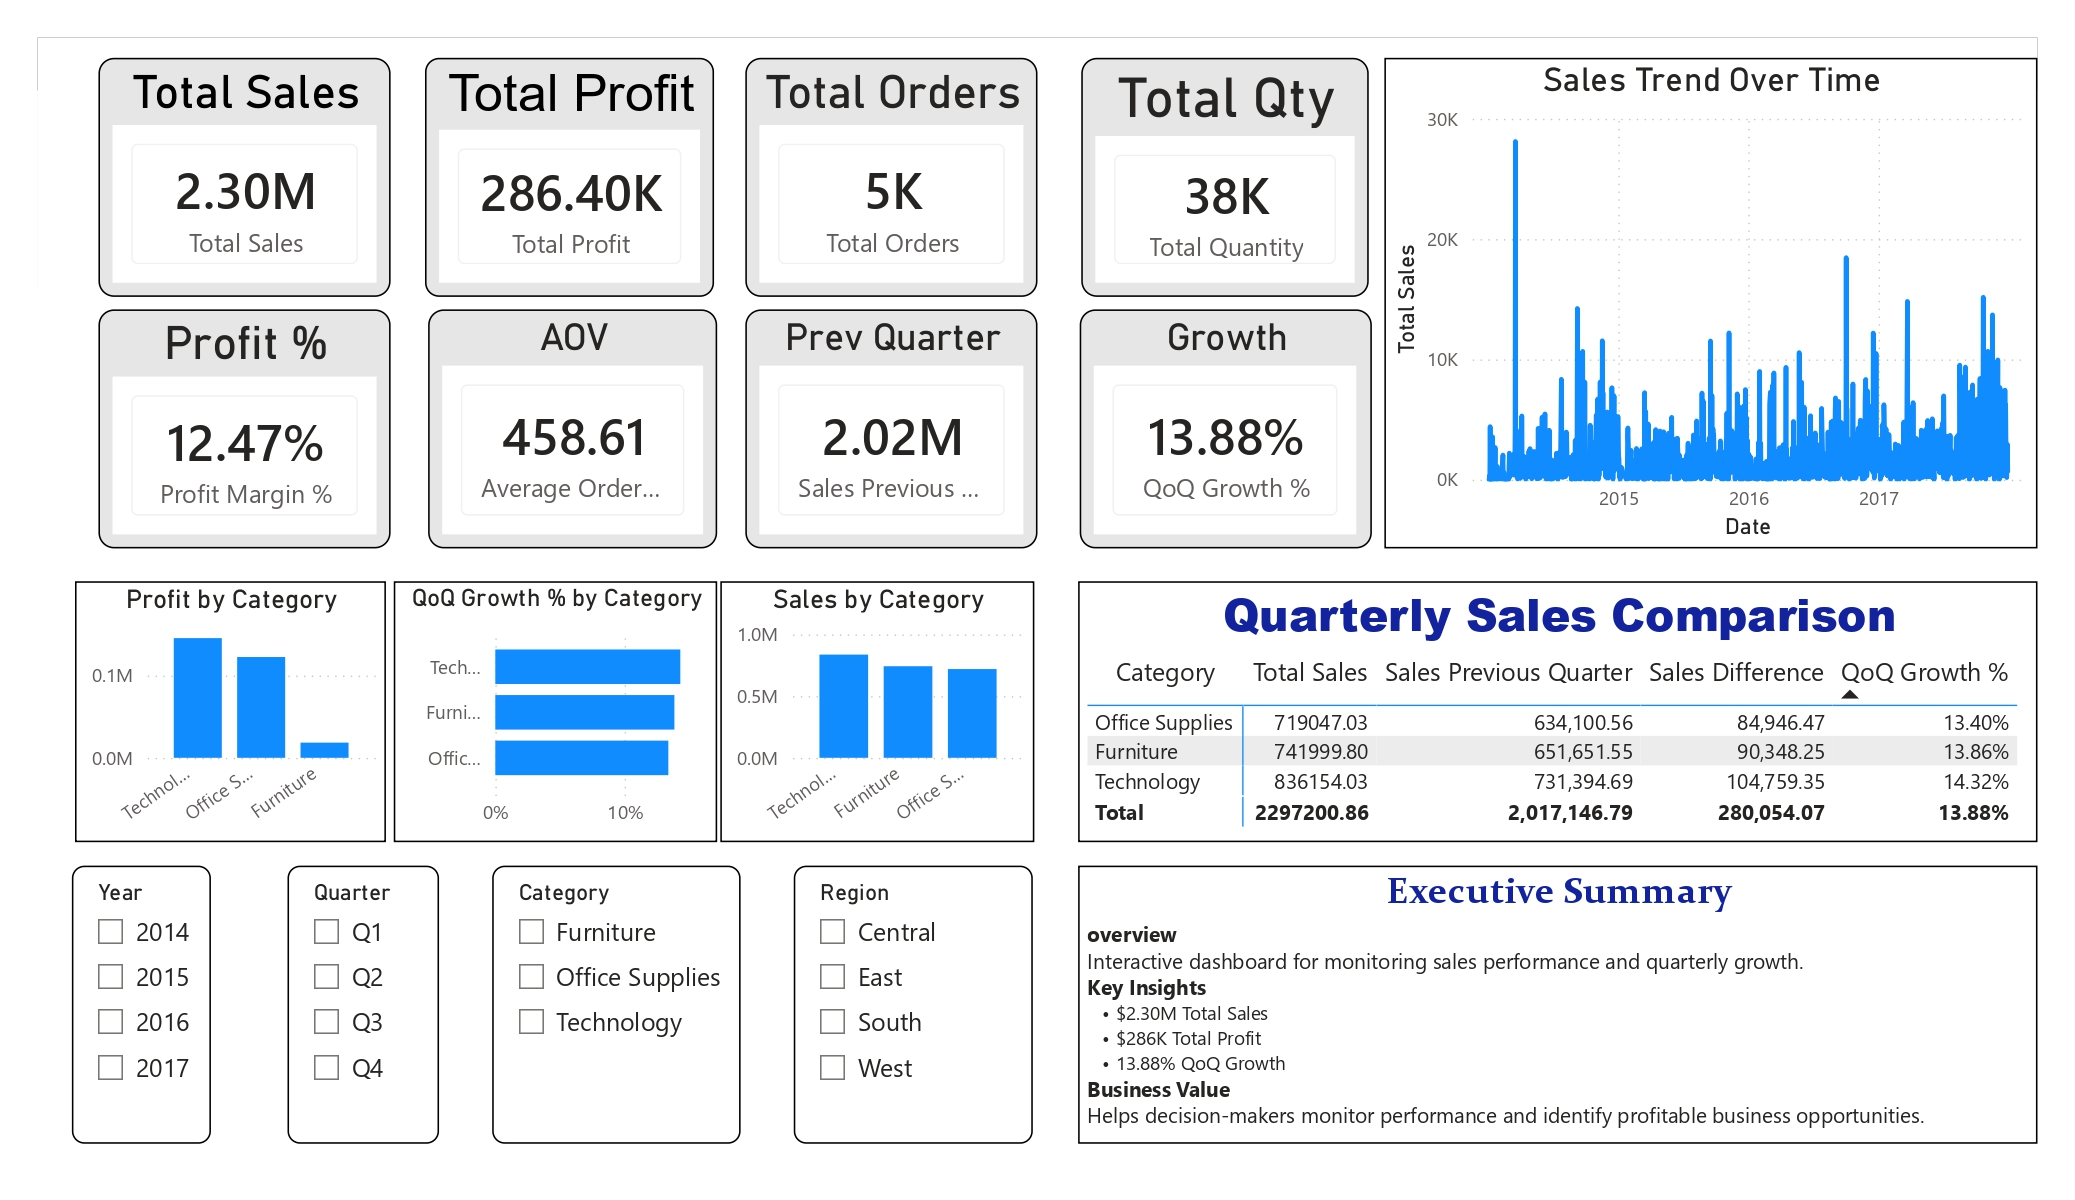

The page's visual inventory and layout, read from the dashboard file:
{"tool":"powerbi","page":{"name":"Executive Overview","canvas":[1280,720],"ordinal":0},"visuals":[{"type":"cardVisual","title":"Total Sales","fields":{"Data":["Measures (2).Total Sales"]},"box":[39,13,187,153],"z":0},{"type":"cardVisual","title":"Total Profit","fields":{"Data":["Measures (2).Total Profit"]},"box":[248,13,185,153],"z":1000},{"type":"cardVisual","title":"Total Orders","fields":{"Data":["Measures (2).Total Orders"]},"box":[453,13,187,153],"z":2000},{"type":"cardVisual","title":"Total Qty","fields":{"Data":["Measures (2).Total Quantity"]},"box":[668,13,184,153],"z":3000},{"type":"cardVisual","title":"AOV","fields":{"Data":["Measures (2).Average Order Value"]},"box":[250,174,185,153],"z":4000},{"type":"cardVisual","title":" Profit %","fields":{"Data":["Measures (2).Profit Margin %"]},"box":[39,174,187,153],"z":5000},{"type":"lineChart","title":"Sales Trend Over Time","fields":{"Category":["DimDate.Date.Variation.Date Hierarchy.Year"],"Y":["Measures (2).Total Sales"]},"box":[861.7,12.9,418.3,314],"z":6000},{"type":"clusteredColumnChart","title":"Sales by Category","fields":{"Category":["FactSales.Category"],"Y":["Measures (2).Total Sales"]},"box":[437.3,348.5,201,166.5],"z":7000},{"type":"clusteredColumnChart","title":"Profit by Category","fields":{"Category":["FactSales.Category"],"Y":["Measures (2).Total Profit"]},"box":[24.2,348.5,199.2,166.5],"z":8000},{"type":"cardVisual","title":"Prev Quarter","fields":{"Data":["Measures (2).Sales Previous Quarter"]},"box":[453,174,187,153],"z":9000},{"type":"cardVisual","title":"Growth","fields":{"Data":["Measures (2).QoQ Growth %"]},"box":[667.3,174,186.8,153.3],"z":10000},{"type":"clusteredBarChart","fields":{"Category":["DimProducts.Category"],"Y":["Measures (2).QoQ Growth %"]},"box":[227.7,348.5,207,166.5],"z":11000},{"type":"slicer","fields":{"Values":["DimDate.Year"]},"box":[22,530,89,178],"z":12000},{"type":"slicer","fields":{"Values":["DimDate.Quarter"]},"box":[160,530,97,178],"z":13000},{"type":"slicer","fields":{"Values":["DimProducts.Category"]},"box":[291,530,159,178],"z":14000},{"type":"slicer","fields":{"Values":["DimCustomers.Region"]},"box":[484,530,153,178],"z":15000},{"type":"pivotTable","title":"Quarterly Sales Comparison","fields":{"Rows":["DimProducts.Category"],"Values":["Measures (2).Total Sales","Measures (2).Sales Previous Quarter","Measures (2).Sales Difference","Measures (2).QoQ Growth %"]},"box":[665.9,348.5,614.1,166.5],"z":16000},{"type":"textbox","title":"Executive Summary","box":[666,530,614,178],"z":17000}]}

Visuals, with their boxes in screenshot pixels (x1, y1, x2, y2):
"Total Sales" cardVisual: <bbox>103, 63, 392, 299</bbox>
"Total Profit" cardVisual: <bbox>426, 63, 711, 299</bbox>
"Total Orders" cardVisual: <bbox>742, 63, 1030, 299</bbox>
"Total Qty" cardVisual: <bbox>1073, 63, 1357, 299</bbox>
"AOV" cardVisual: <bbox>429, 312, 714, 547</bbox>
" Profit %" cardVisual: <bbox>103, 312, 392, 547</bbox>
"Sales Trend Over Time" lineChart: <bbox>1372, 63, 2017, 547</bbox>
"Sales by Category" clusteredColumnChart: <bbox>718, 581, 1027, 837</bbox>
"Profit by Category" clusteredColumnChart: <bbox>81, 581, 388, 837</bbox>
"Prev Quarter" cardVisual: <bbox>742, 312, 1030, 547</bbox>
"Growth" cardVisual: <bbox>1072, 312, 1360, 548</bbox>
clusteredBarChart - DimProducts.Category x Measures (2).QoQ Growth %: <bbox>394, 581, 714, 837</bbox>
slicer - DimDate.Year: <bbox>77, 860, 214, 1135</bbox>
slicer - DimDate.Quarter: <bbox>290, 860, 440, 1135</bbox>
slicer - DimProducts.Category: <bbox>492, 860, 737, 1135</bbox>
slicer - DimCustomers.Region: <bbox>790, 860, 1025, 1135</bbox>
"Quarterly Sales Comparison" pivotTable: <bbox>1070, 581, 2017, 837</bbox>
"Executive Summary" textbox: <bbox>1070, 860, 2017, 1135</bbox>
